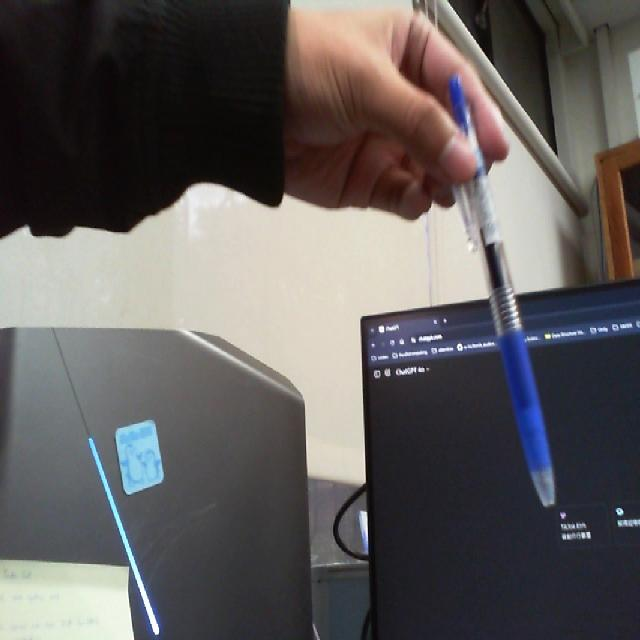Pen: (429, 61, 568, 525)
